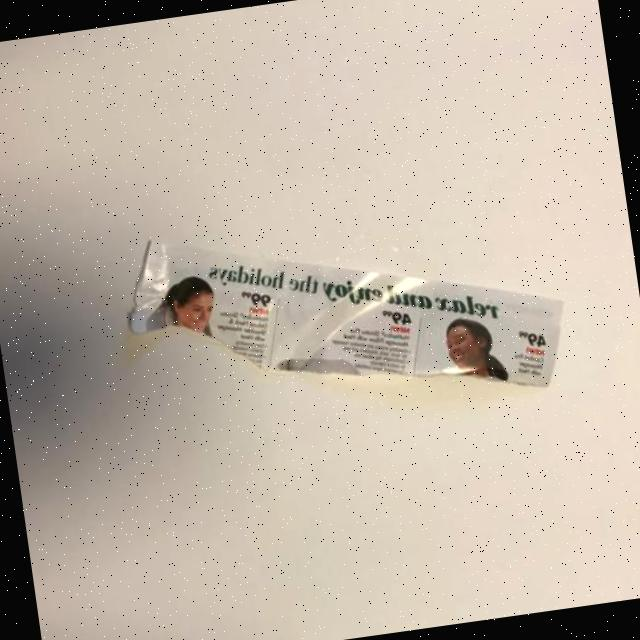paper: (117, 152, 590, 493)
